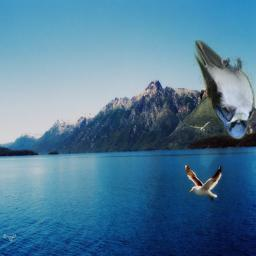Swallow: (193, 40, 255, 140)
